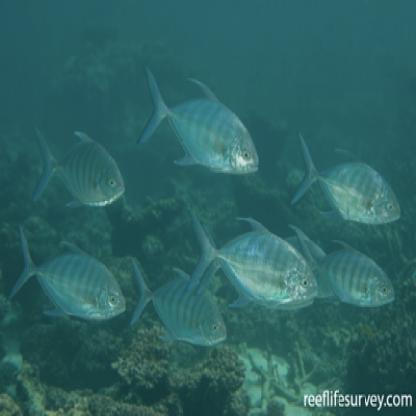Carangidae -Jacks-: (139, 54, 262, 182), (185, 197, 321, 311), (4, 216, 126, 319), (287, 132, 402, 231), (125, 246, 231, 349), (23, 109, 127, 212), (300, 235, 398, 311)
